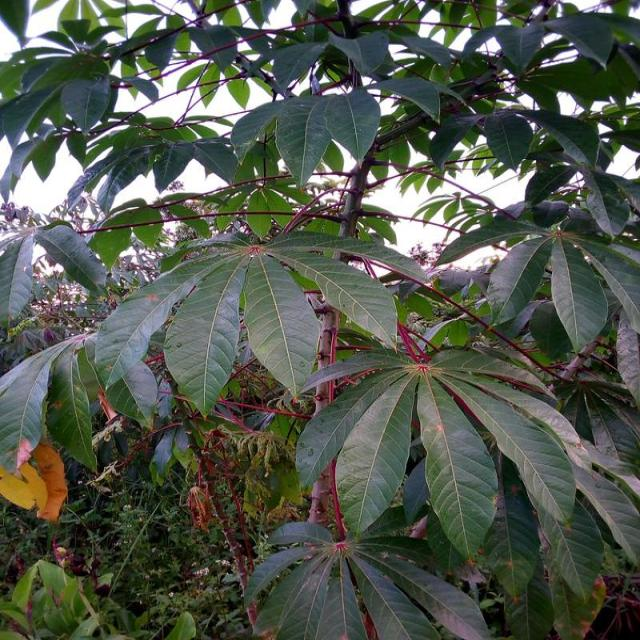cassava leaf: (1, 1, 638, 637), (242, 250, 321, 396)
